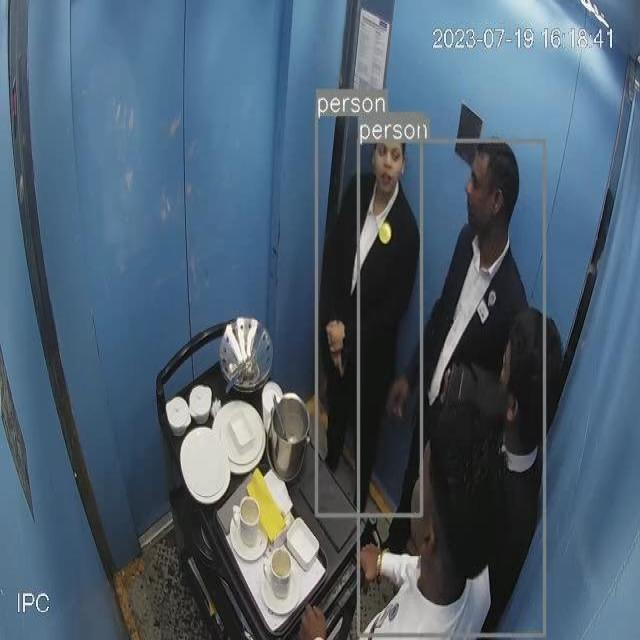person: (335, 414, 524, 640), (319, 111, 423, 509), (421, 142, 543, 426), (492, 294, 565, 598)
